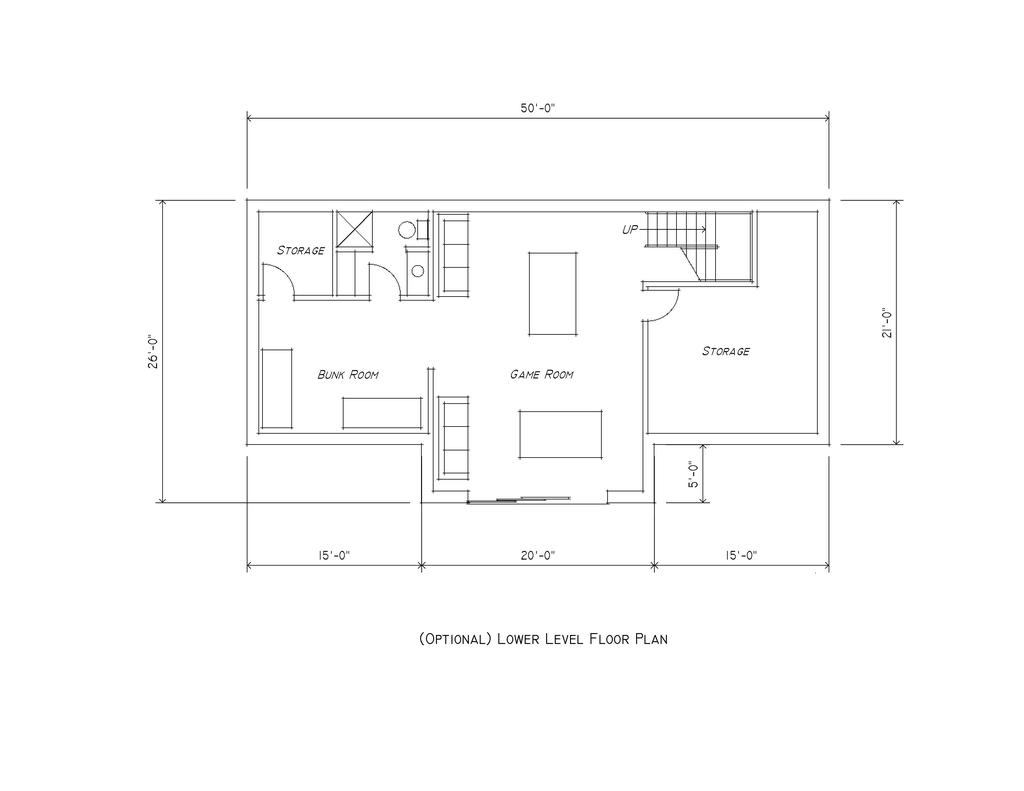door: (257, 260, 299, 302), (364, 263, 404, 300), (645, 289, 682, 324)
large_sink: (391, 214, 431, 244)
large_sofa: (433, 392, 472, 483), (433, 214, 471, 297)
small_sink: (406, 248, 430, 296)
stairs: (624, 210, 759, 289)
